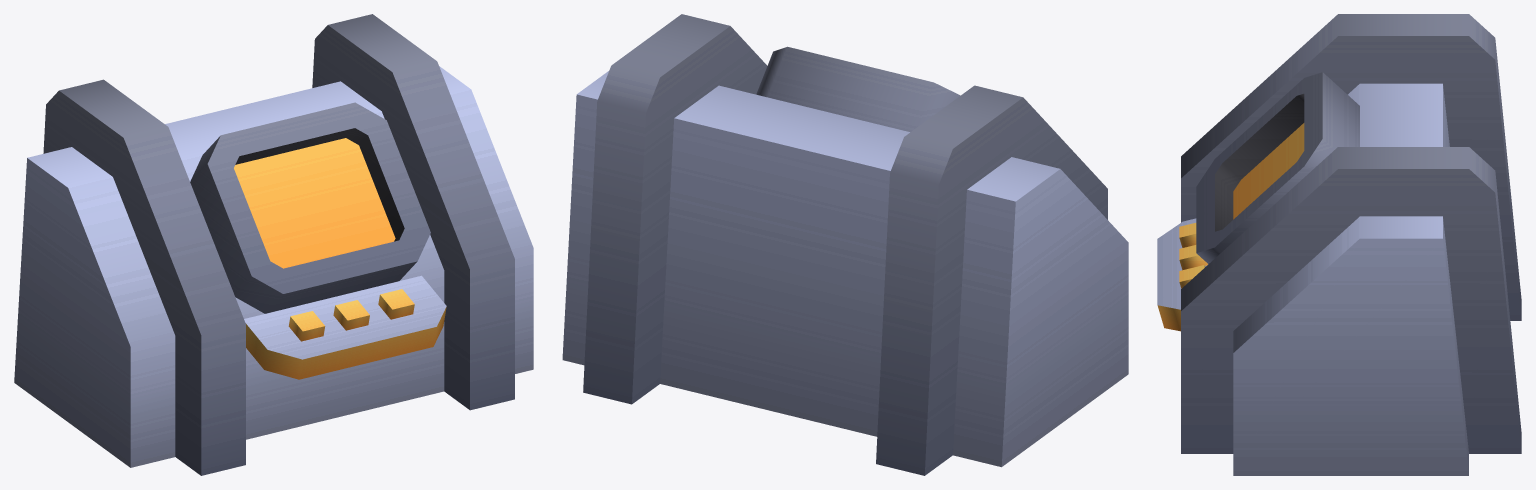
The model's file is computer-system.glb.
3 views of the same model, side by side, from view 1: azimuth 30°, elevation 25°; view 2: azimuth 150°, elevation 25°; view 3: azimuth 270°, elevation 25° (orthographic). The views are drawn at different scales.
Parts seen in each view (by area): view 1: computer-system; view 2: computer-system; view 3: computer-system.
Boxes of the visible parts, bbox=[...] form: computer-system: bbox=[14, 14, 533, 475]; computer-system: bbox=[562, 14, 1128, 475]; computer-system: bbox=[1157, 14, 1521, 475].
Size of the model in its own units: 0.9 by 0.6 by 0.6949.
1 material, 1 textured.
